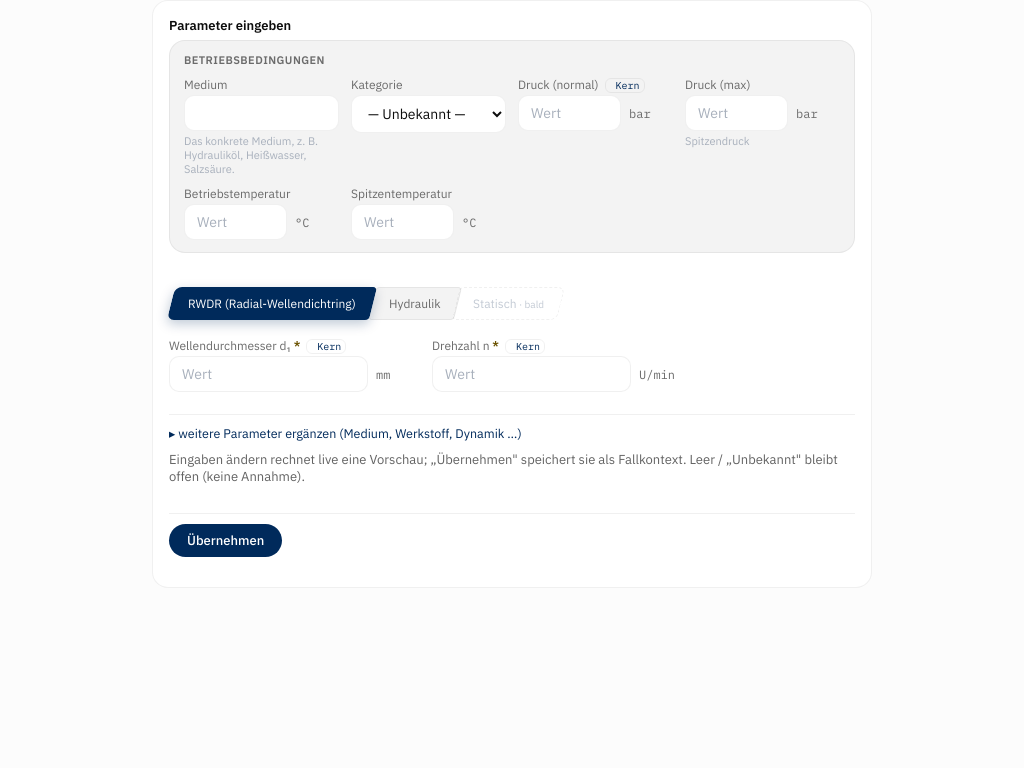
Test: ParameterForm — Modell R2 (hydrate · live preview · adopt, no wipe) › preview is LATEST-WINS: a delayed EARLIER response never overwrites a NEWER one
In the field with test id "param-wellendurchmesser": (268, 374) [169,356,368,392], type "40"
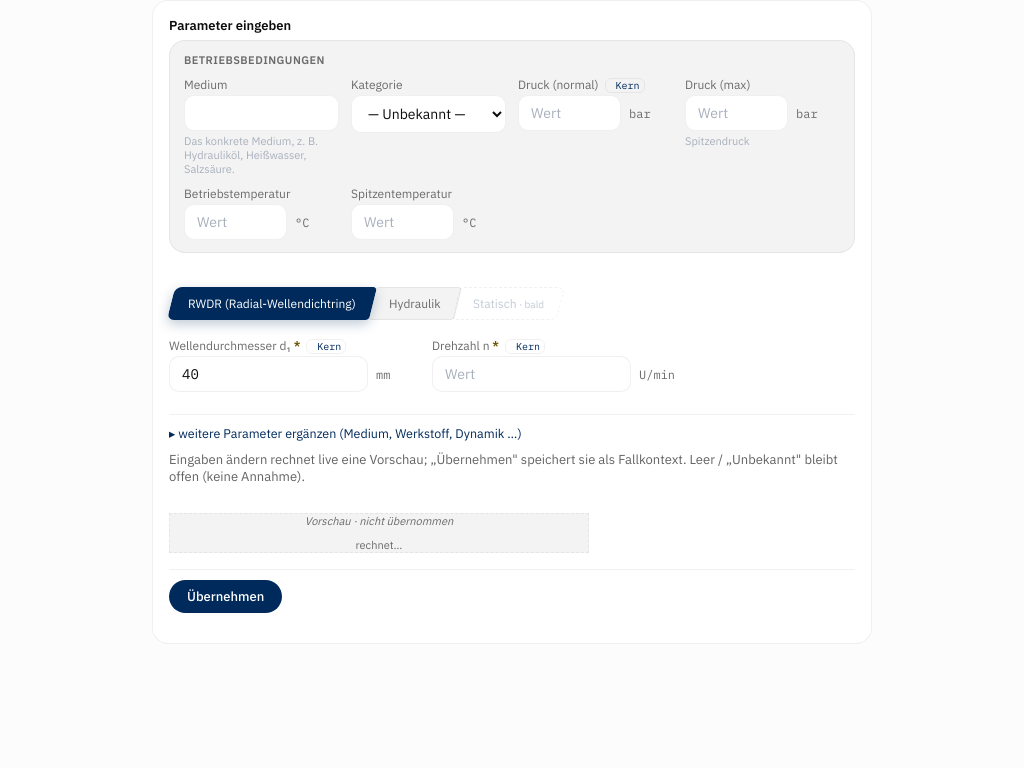
In the field with test id "param-drehzahl": (532, 374) [432,356,631,392], type "5000"
Wait 400 ms
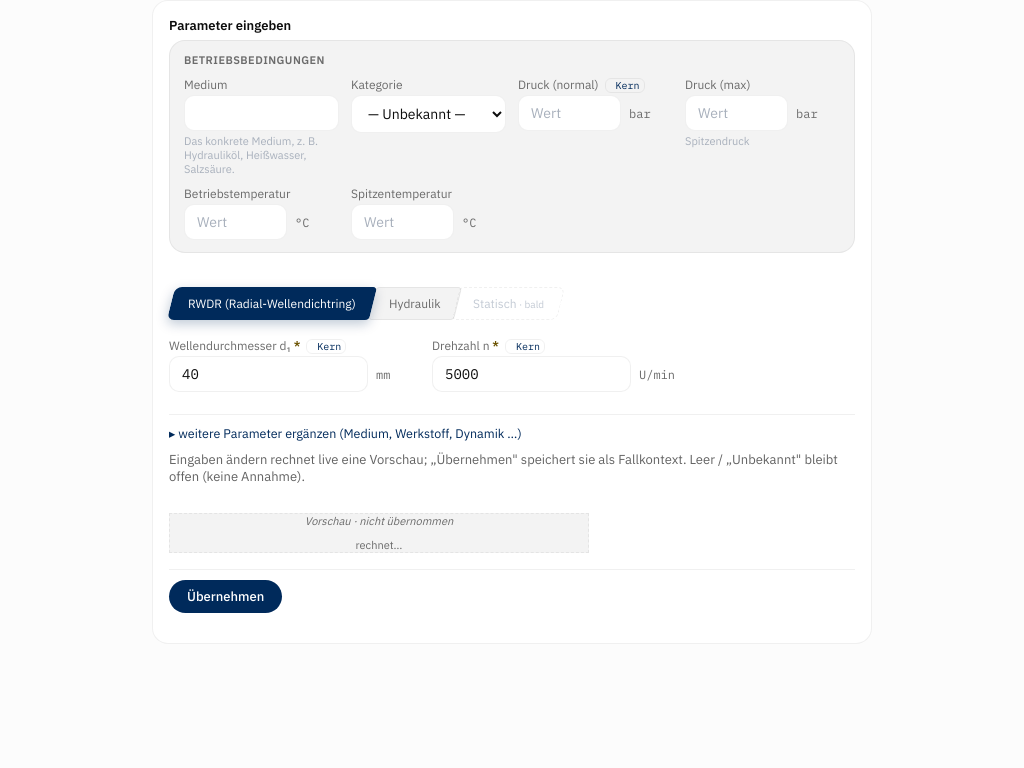
Replace the text in the field with test id "param-wellendurchmesser" with "45": (268, 374) [169,356,368,392]
Wait 400 ms
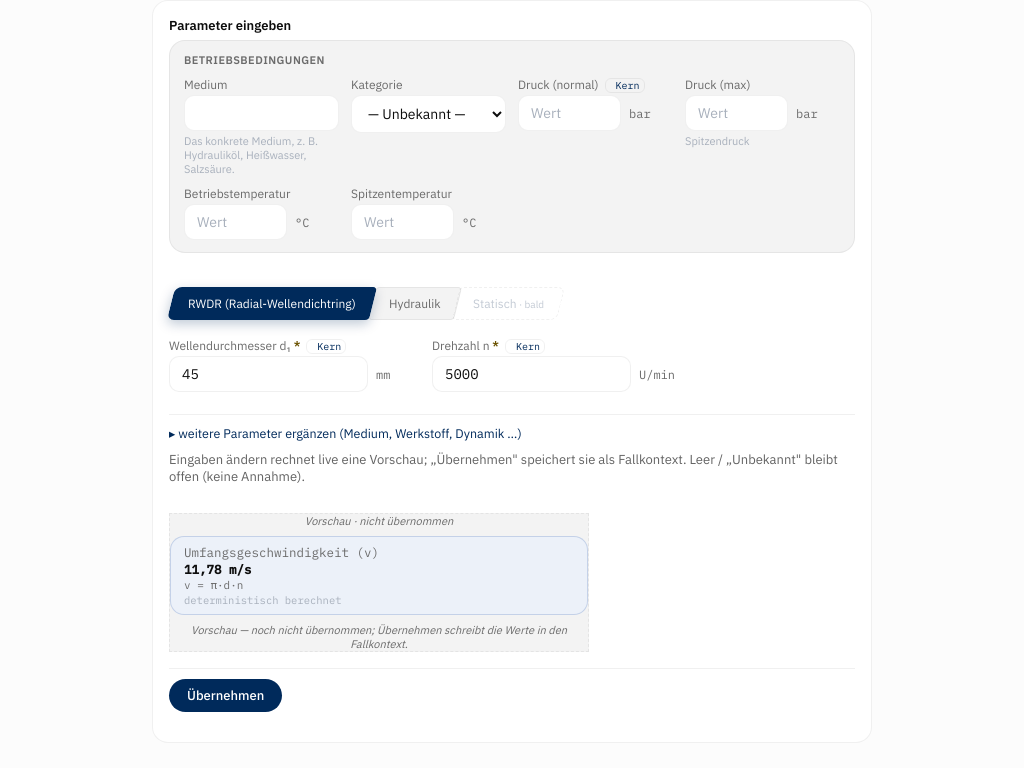
Expected: the element with test id "preview-panel" does not show "10,47", [169,513,589,652]
Now the element with test id "preview-panel" shows "11,78", box [184,561,222,577]
